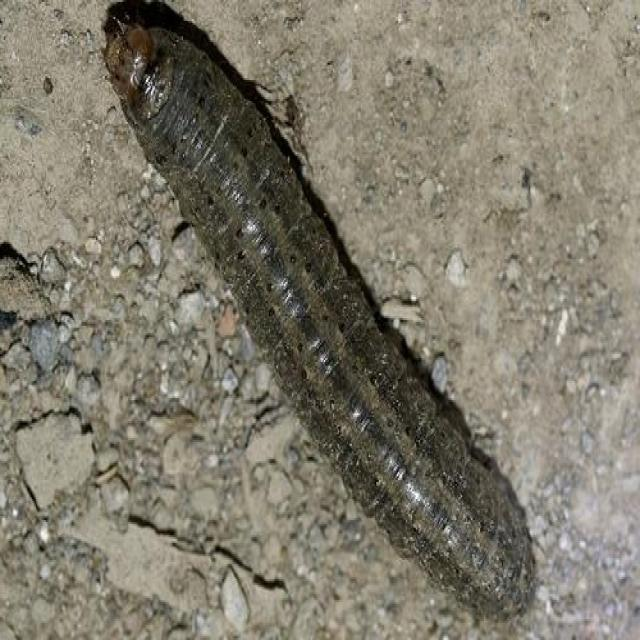black cutworm: (82, 7, 537, 620)
